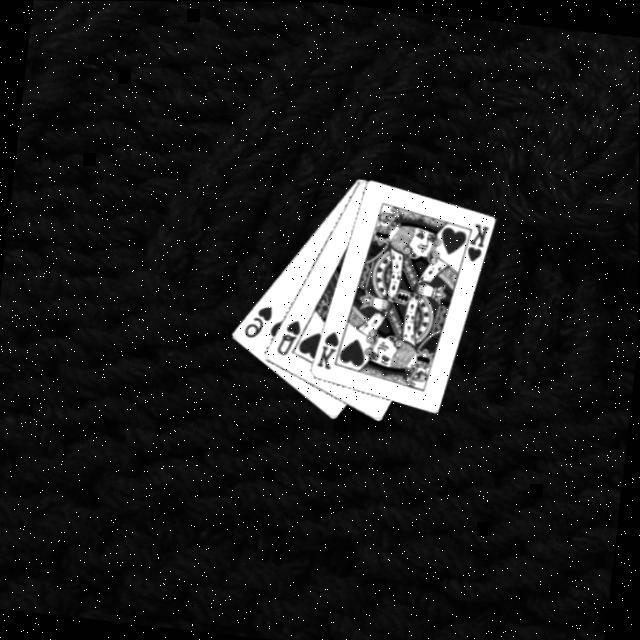9H: (242, 297, 277, 340)
KH: (463, 217, 491, 263), (314, 325, 342, 369)
QH: (273, 312, 305, 357)
